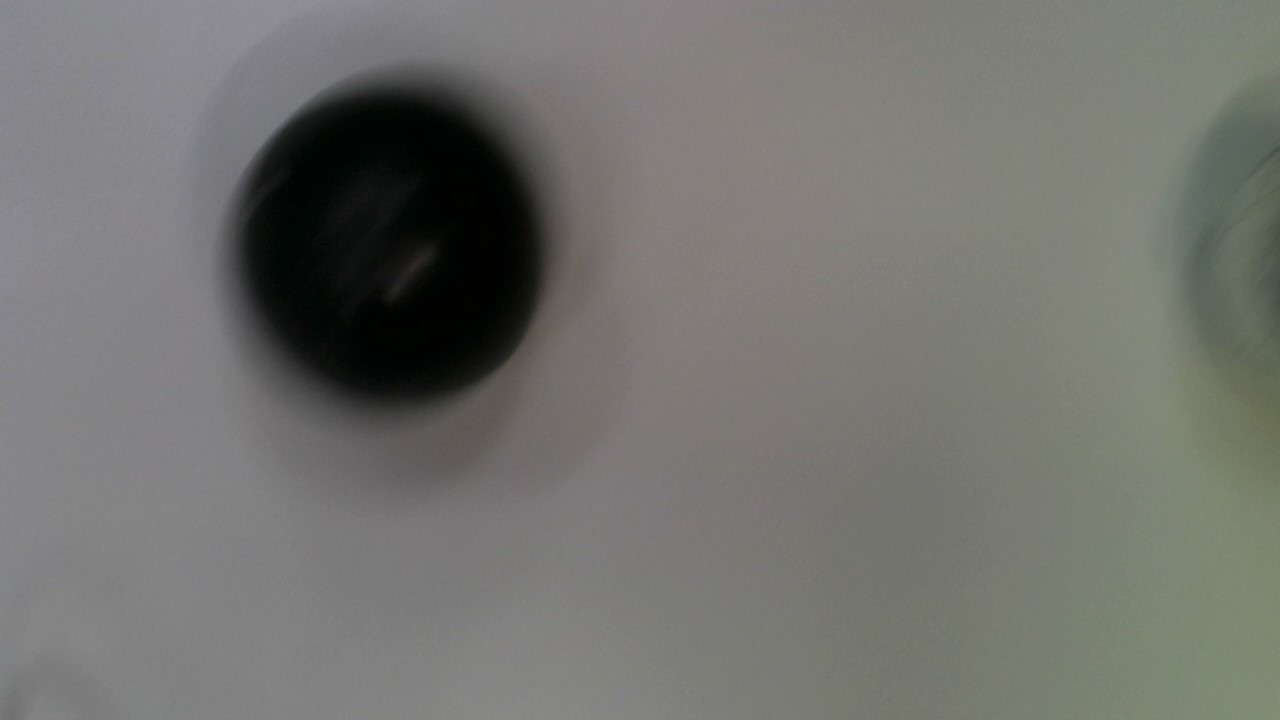black_ball: (220, 90, 555, 397)
